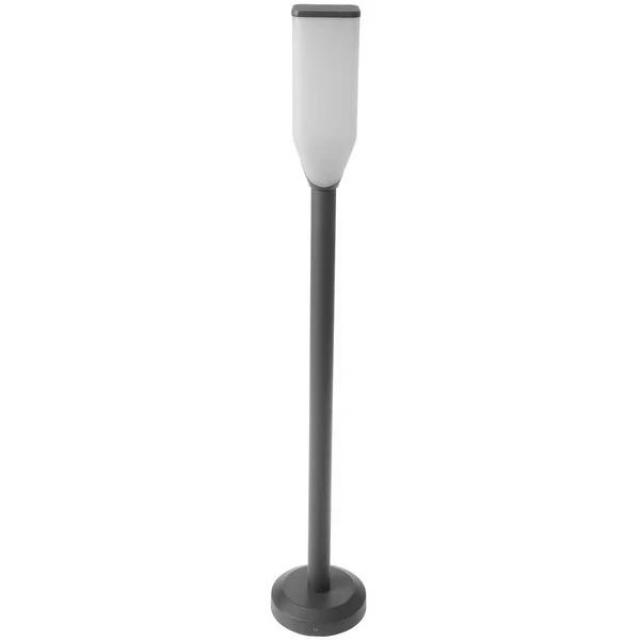Pole: (271, 0, 367, 638)
